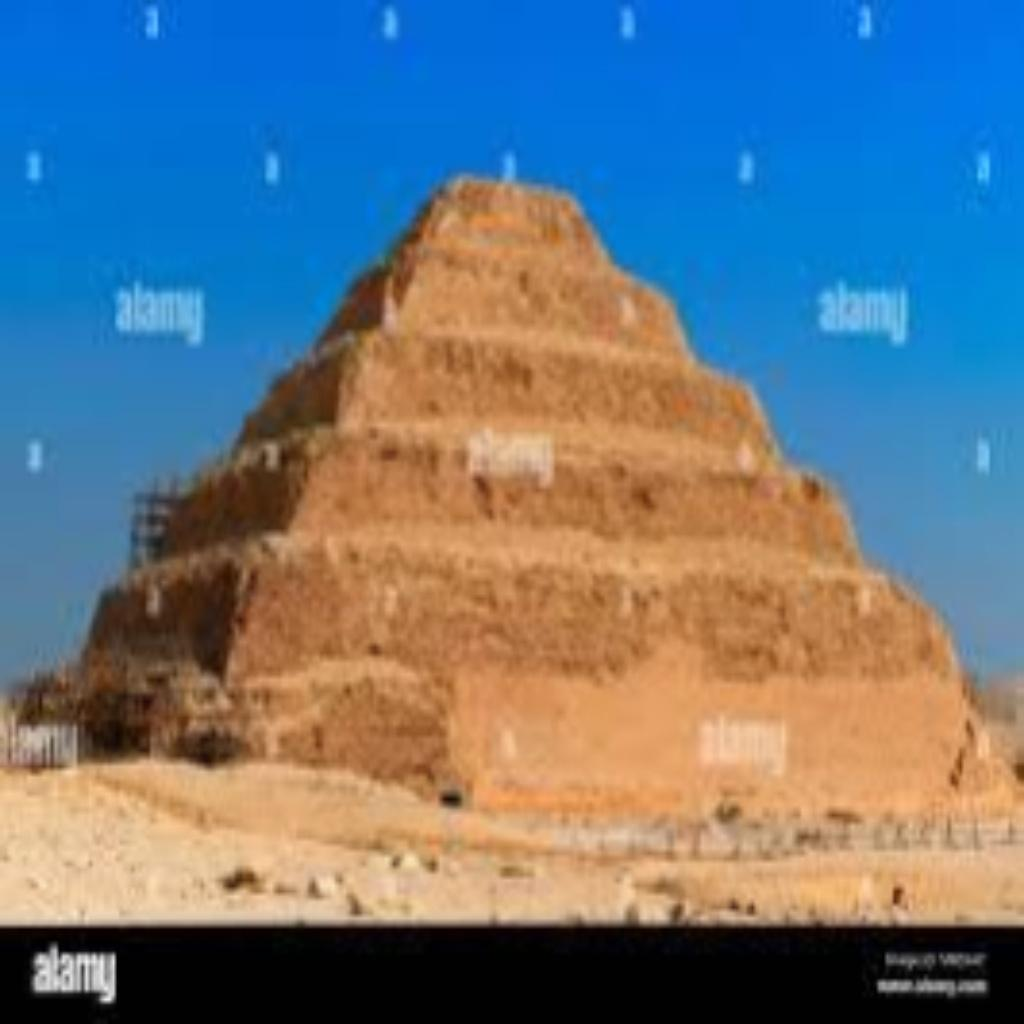Pyramid of Djoser: (16, 157, 1016, 829)
